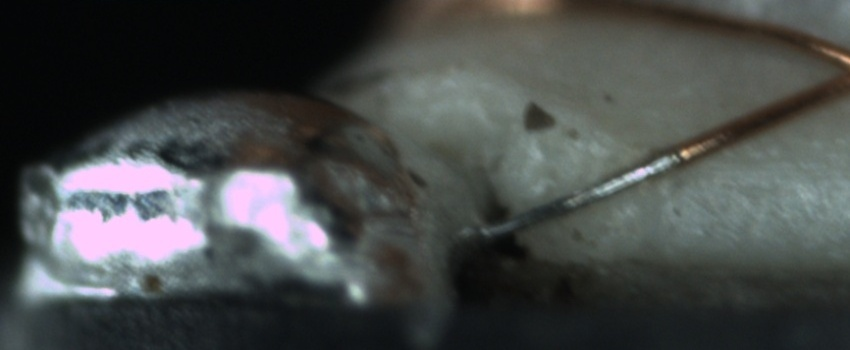CL: (805, 37, 850, 105)
DL: (684, 136, 849, 200)
TS: (481, 149, 683, 241)
